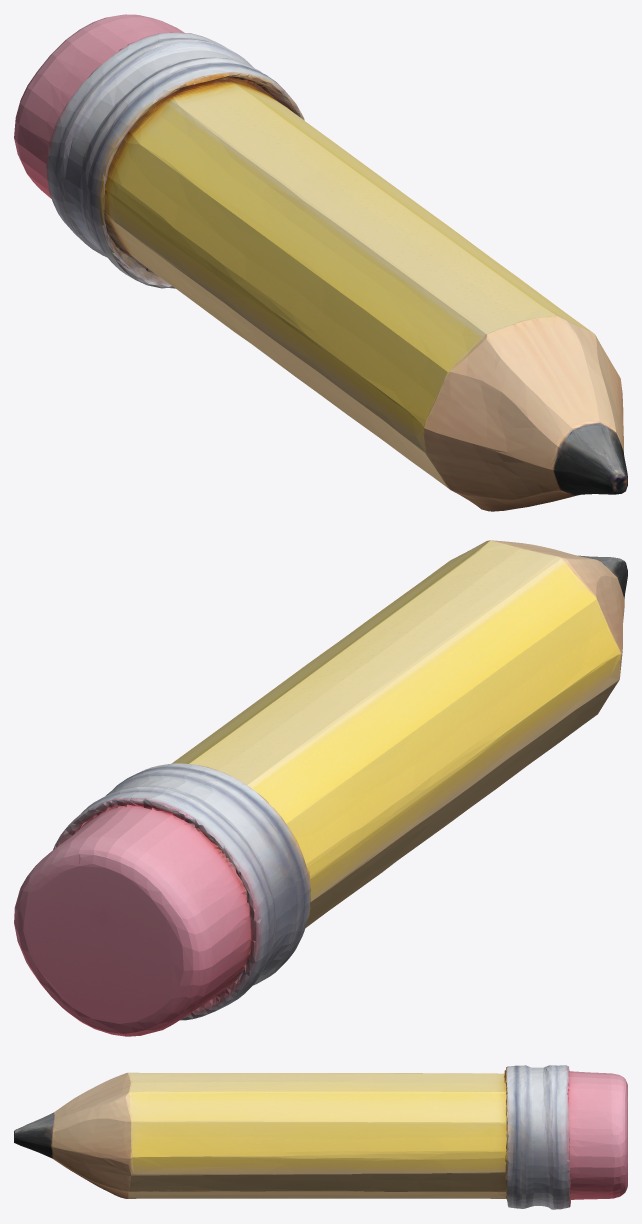
File: pencil.glb
3 views of the same model, one above another, from view 1: azimuth 30°, elevation 25°; view 2: azimuth 150°, elevation 25°; view 3: azimuth 270°, elevation 25° (orthographic). The views are drawn at different scales.
Parts seen in each view (by area): view 1: world; view 2: world; view 3: world.
Part boxes in pixels (x1,y1,x2,y2): world: (14, 14, 627, 511); world: (14, 540, 627, 1036); world: (14, 1065, 627, 1209).
Bounding box in the file's own units: 0.2402 × 0.2351 × 1.
1 material, 1 textured.
